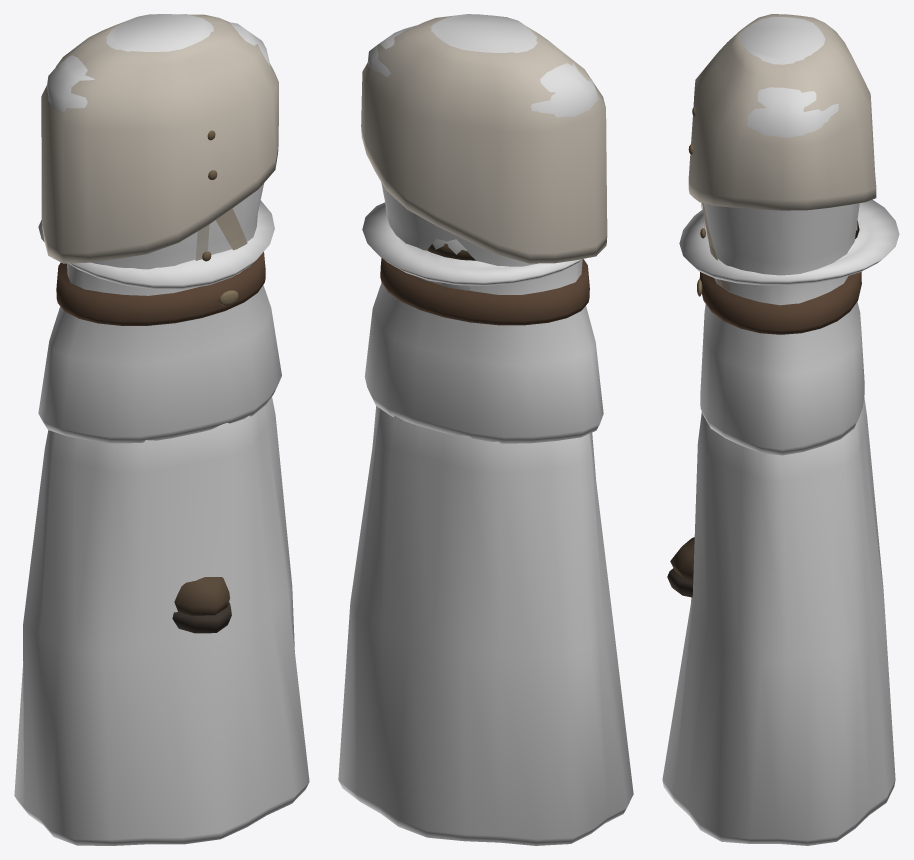
The model's file is people.glb.
3 renders of one model, left to right at view 1: azimuth 30°, elevation 25°; view 2: azimuth 150°, elevation 25°; view 3: azimuth 270°, elevation 25°, orthographic.
Visible parts, largest first — view 1: skirt, winterWrap, torso, felt, shin; view 2: skirt, torso, winterWrap, felt; view 3: skirt, torso, winterWrap, felt, shin.
Part boxes in pixels (bbox=[...]): skirt: bbox=[14, 397, 309, 845]; winterWrap: bbox=[41, 14, 278, 263]; torso: bbox=[38, 14, 281, 443]; felt: bbox=[38, 200, 274, 289]; shin: bbox=[172, 577, 231, 633]; skirt: bbox=[338, 406, 633, 845]; torso: bbox=[364, 14, 603, 443]; winterWrap: bbox=[361, 14, 607, 263]; felt: bbox=[362, 202, 582, 285]; skirt: bbox=[662, 397, 895, 845]; torso: bbox=[688, 17, 864, 455]; winterWrap: bbox=[688, 14, 876, 290]; felt: bbox=[679, 199, 899, 285]; shin: bbox=[667, 537, 694, 597].
Size of the model in its own units: 0.4952 by 1.43 by 0.4092.
